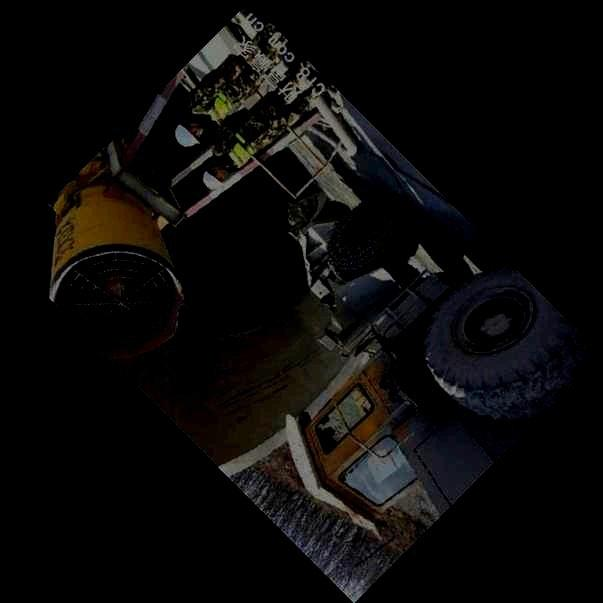helmet: (174, 117, 204, 147), (204, 163, 228, 190)
